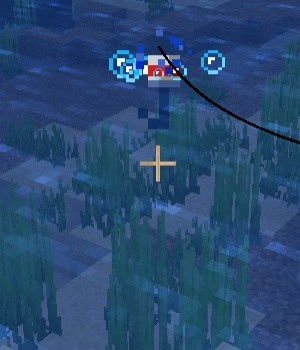up: (138, 49, 185, 129)
